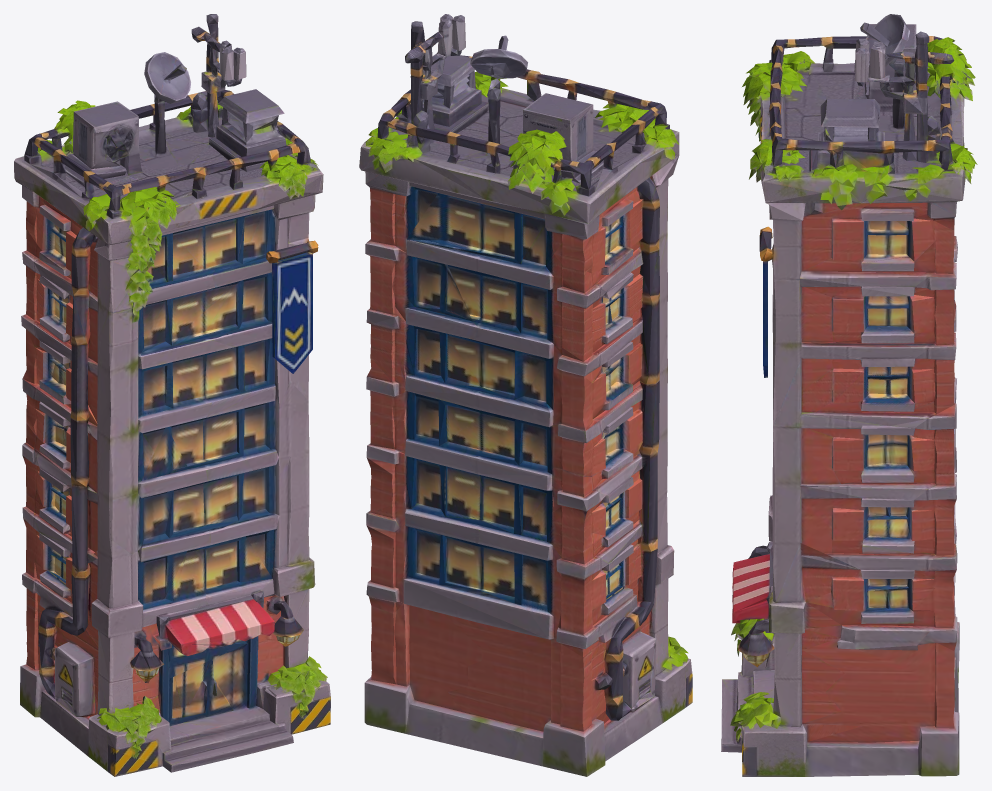
Rendered from tall_office_tower.glb.
The picture shows the model from 3 angles, left to right: view 1: azimuth 30°, elevation 25°; view 2: azimuth 150°, elevation 25°; view 3: azimuth 270°, elevation 25°; orthographic projection. The views are drawn at different scales.
Visible parts, largest first — view 1: output_unwrapped; view 2: output_unwrapped; view 3: output_unwrapped.
Part boxes in pixels (x1,y1,x2,y2): output_unwrapped: [14, 14, 330, 776]; output_unwrapped: [359, 14, 692, 776]; output_unwrapped: [721, 14, 977, 776].
Size of what is drawn, in the model's own units: 0.3703 by 1 by 0.3208.
Materials: 1 (1 with a texture image).
